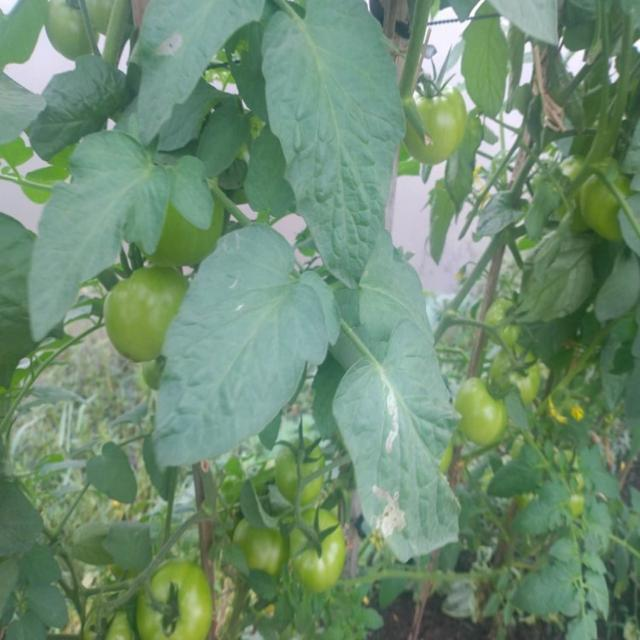tomato: (95, 263, 194, 368), (143, 559, 214, 640), (226, 511, 294, 591), (580, 160, 633, 252), (409, 88, 468, 167), (294, 511, 353, 587), (455, 374, 510, 451), (275, 438, 331, 502), (47, 3, 112, 58), (495, 350, 551, 403), (480, 298, 531, 343), (101, 608, 143, 640)
